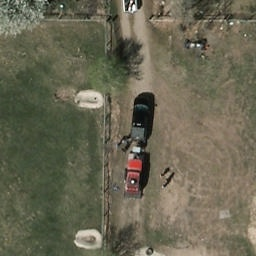car: (129, 103, 150, 143)
